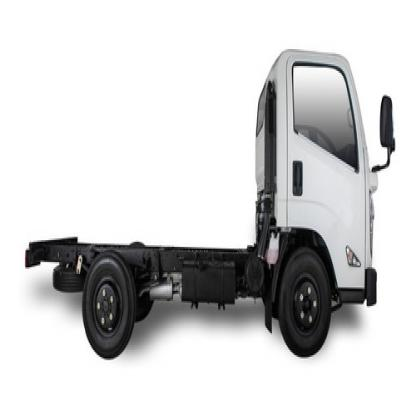Wheel hub: (92, 277, 124, 336), (291, 280, 320, 337)
